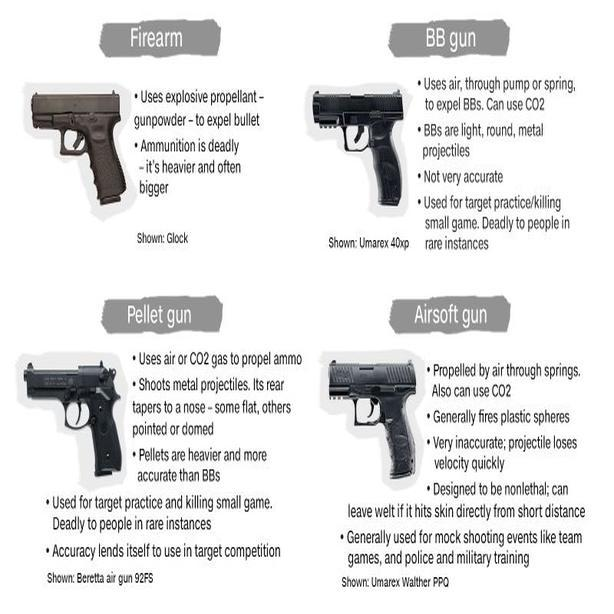Firearm: (300, 77, 418, 214), (14, 353, 131, 491), (21, 80, 136, 215), (323, 348, 427, 489)
